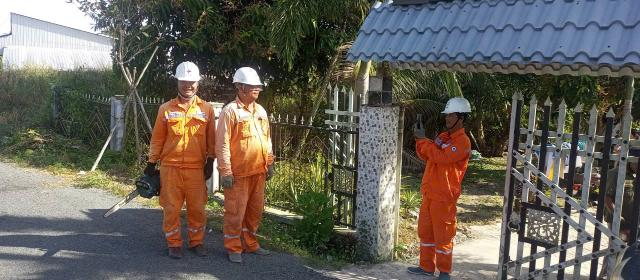gloves: (407, 119, 427, 141), (143, 159, 159, 183), (261, 161, 277, 182), (222, 168, 234, 191), (205, 157, 216, 182)
helmet: (226, 63, 268, 93), (432, 89, 474, 119), (172, 58, 199, 86)
shoes: (397, 262, 433, 278), (164, 236, 186, 259), (240, 240, 264, 258), (190, 239, 209, 260), (226, 243, 243, 266), (430, 266, 453, 280)
